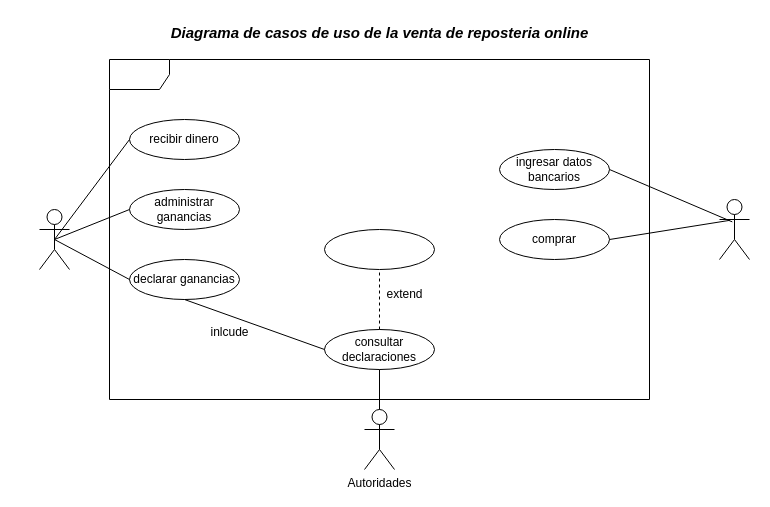
This 770x507 diagram has some shape labels left out. Each missing label, with the box of its shape:
Administrador: (38, 208, 70, 270)
Cliente: (718, 198, 750, 260)
denunciar mala administración: (324, 228, 434, 270)
frame: (108, 58, 650, 400)
